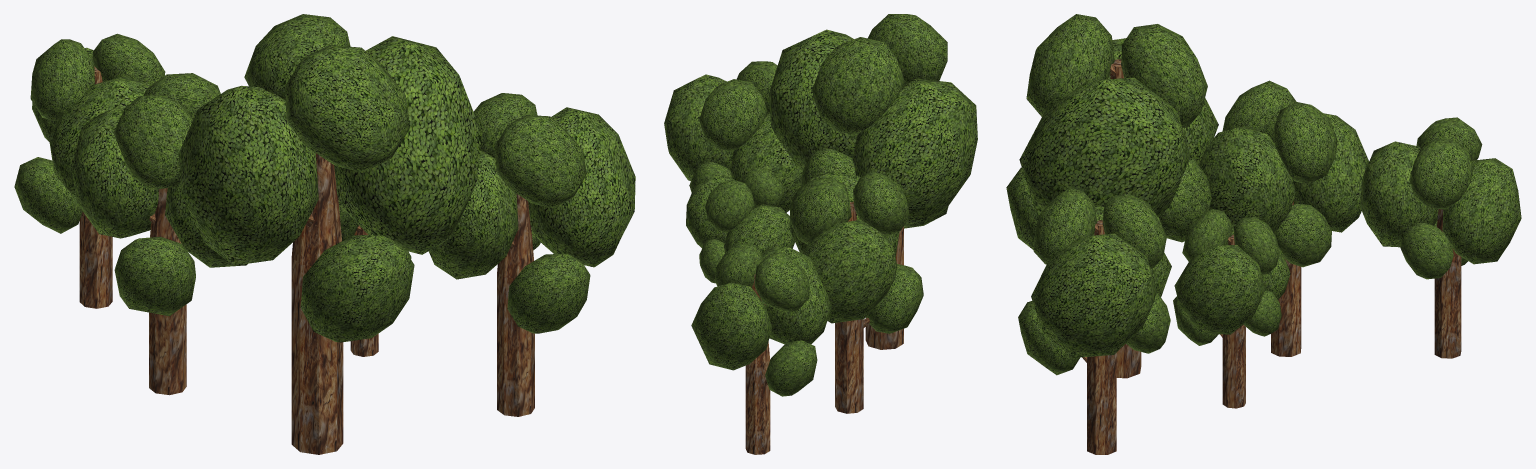
File: pine-tree.glb
3 renders of one model, left to right at view 1: azimuth 30°, elevation 25°; view 2: azimuth 150°, elevation 25°; view 3: azimuth 270°, elevation 25°, orthographic. The views are drawn at different scales.
Parts seen in each view (by area): view 1: FOLIAGE.168, BRANCH 1.028; view 2: FOLIAGE.168, BRANCH 1.028; view 3: FOLIAGE.168, BRANCH 1.028.
Boxes of the visible parts, x1,y1,x2,y2 form: FOLIAGE.168: [14, 14, 635, 342]; BRANCH 1.028: [79, 66, 534, 454]; FOLIAGE.168: [664, 14, 977, 396]; BRANCH 1.028: [745, 201, 903, 454]; FOLIAGE.168: [1006, 14, 1521, 375]; BRANCH 1.028: [1082, 59, 1461, 454].
Bounding box in the file's own units: 9.4 × 8.89 × 11.81.
Materials: 2 (2 with a texture image).
